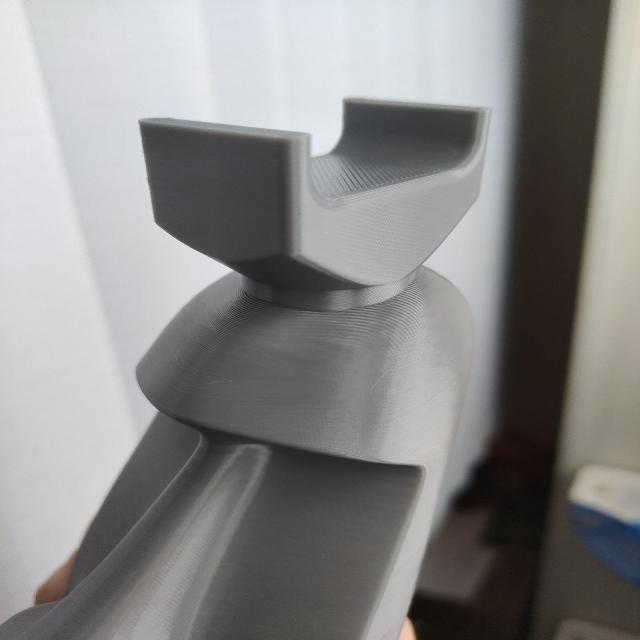Without deffect: (14, 75, 500, 640)
